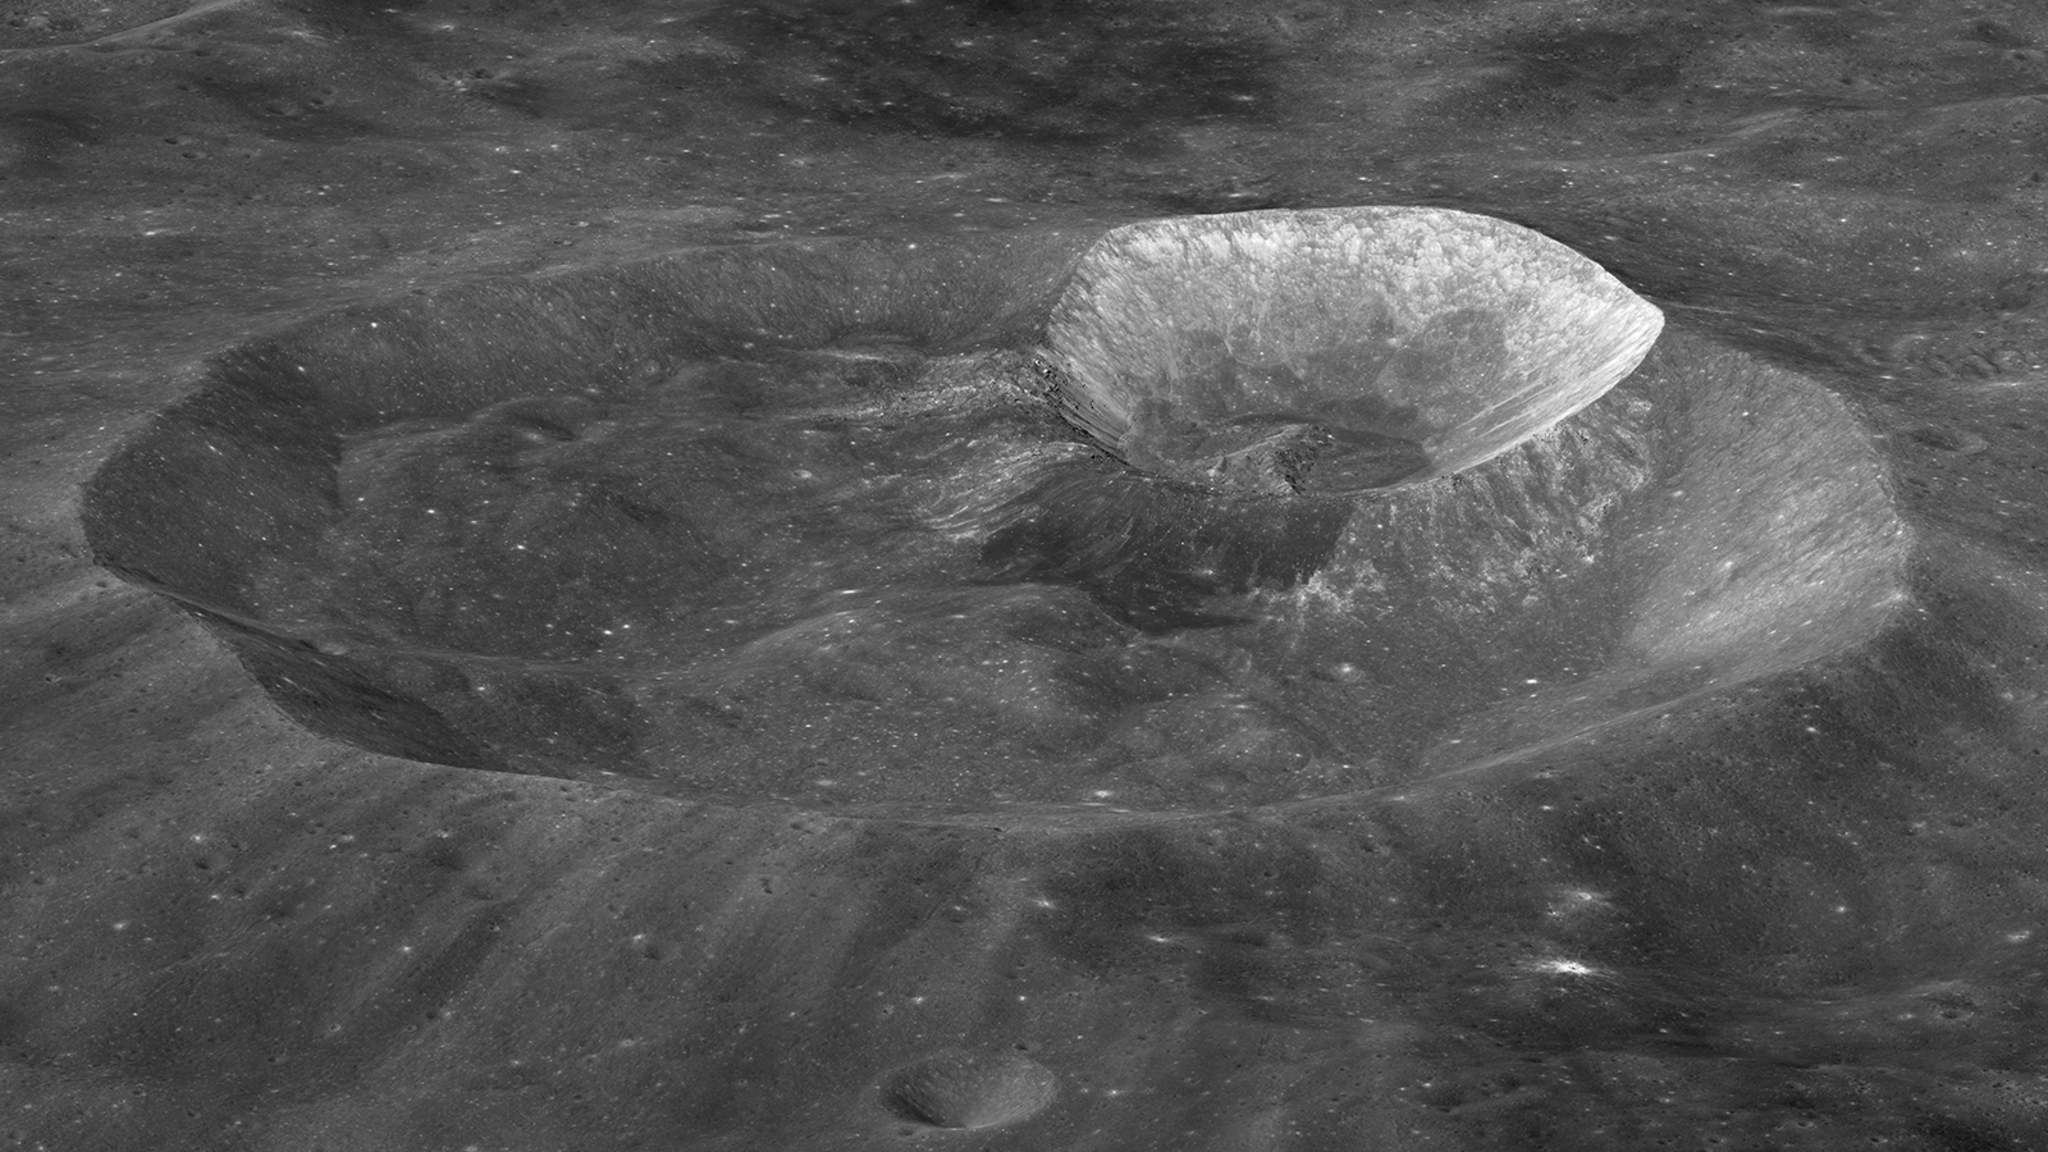crater: (51, 69, 2003, 903), (736, 968, 1203, 1134), (1521, 931, 1640, 1009)
